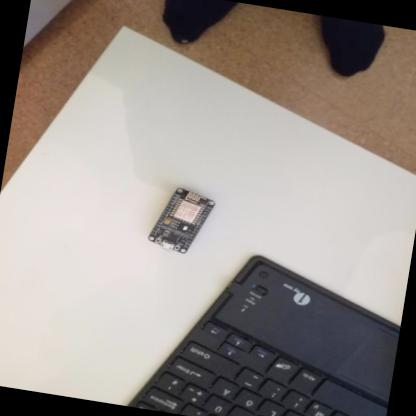ESP8266: (145, 180, 222, 262)
